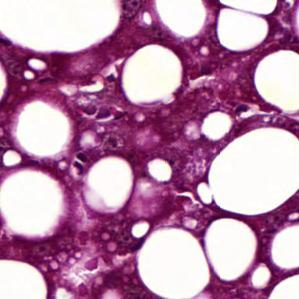steatosis: (0, 259, 47, 298), (266, 273, 299, 299)
